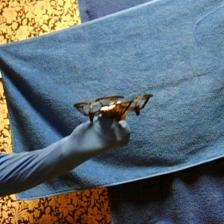drone: (74, 94, 156, 124)
